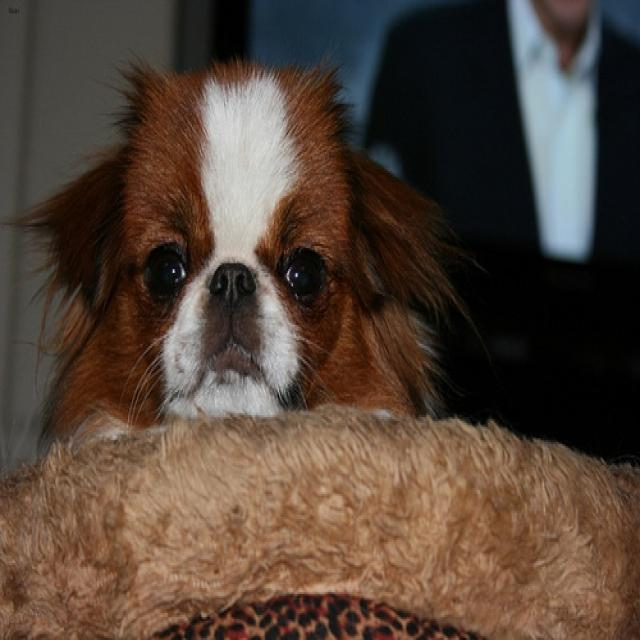dog-japanese_chin: (8, 42, 503, 482)
